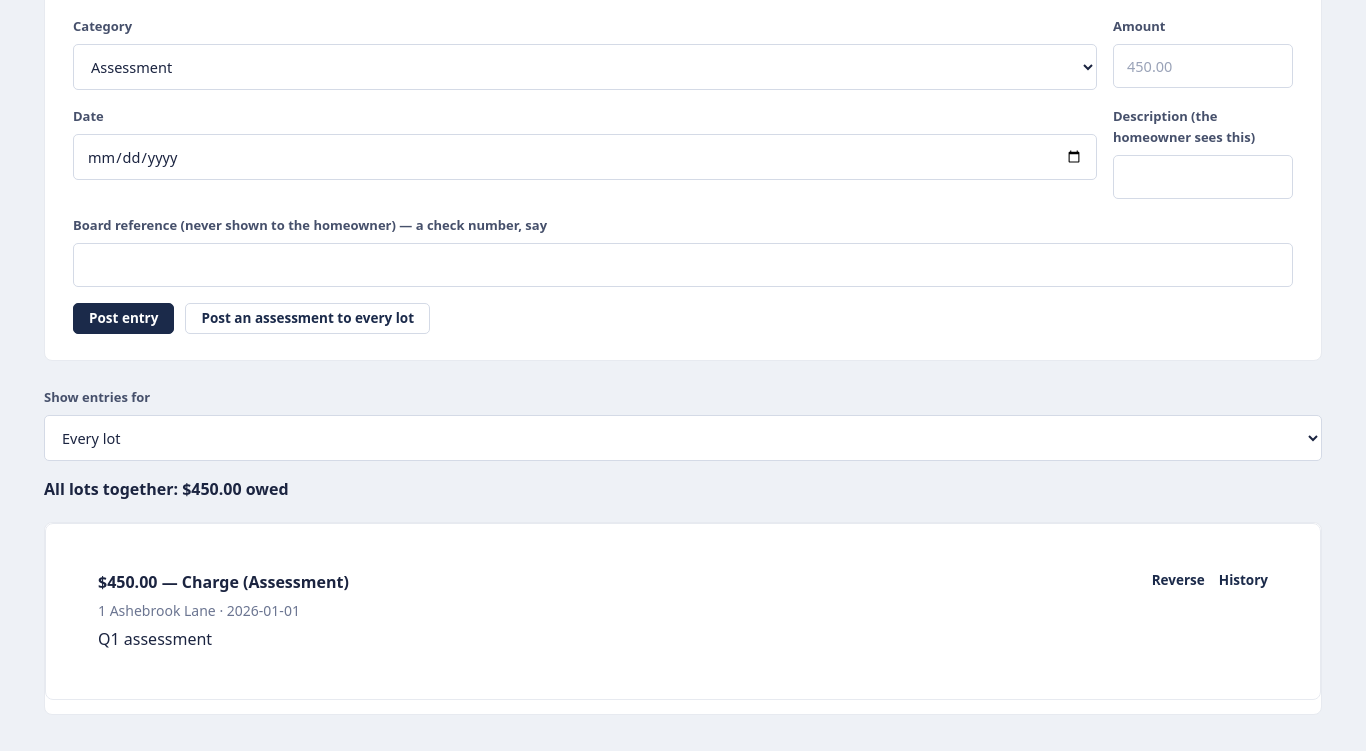
reversing an entry › requires a description the homeowner will read
The image size is (1366, 751).
(page scrolled)
Click the button with aria-label "Reverse entry:": x=1178, y=581 [1152,570,1205,592]
(page scrolled)
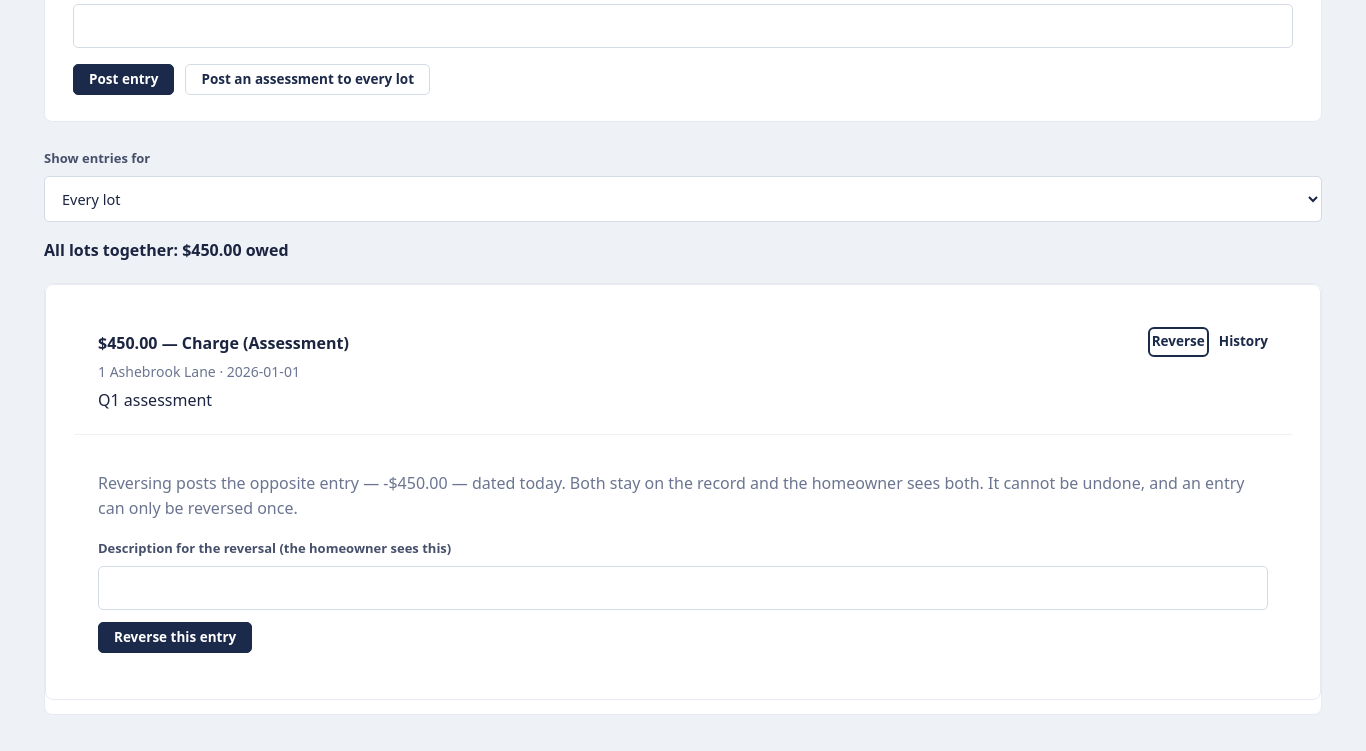
Click the button with aria-label "Confirm reversing entry:": x=175, y=637 [98,622,252,653]
(page scrolled)
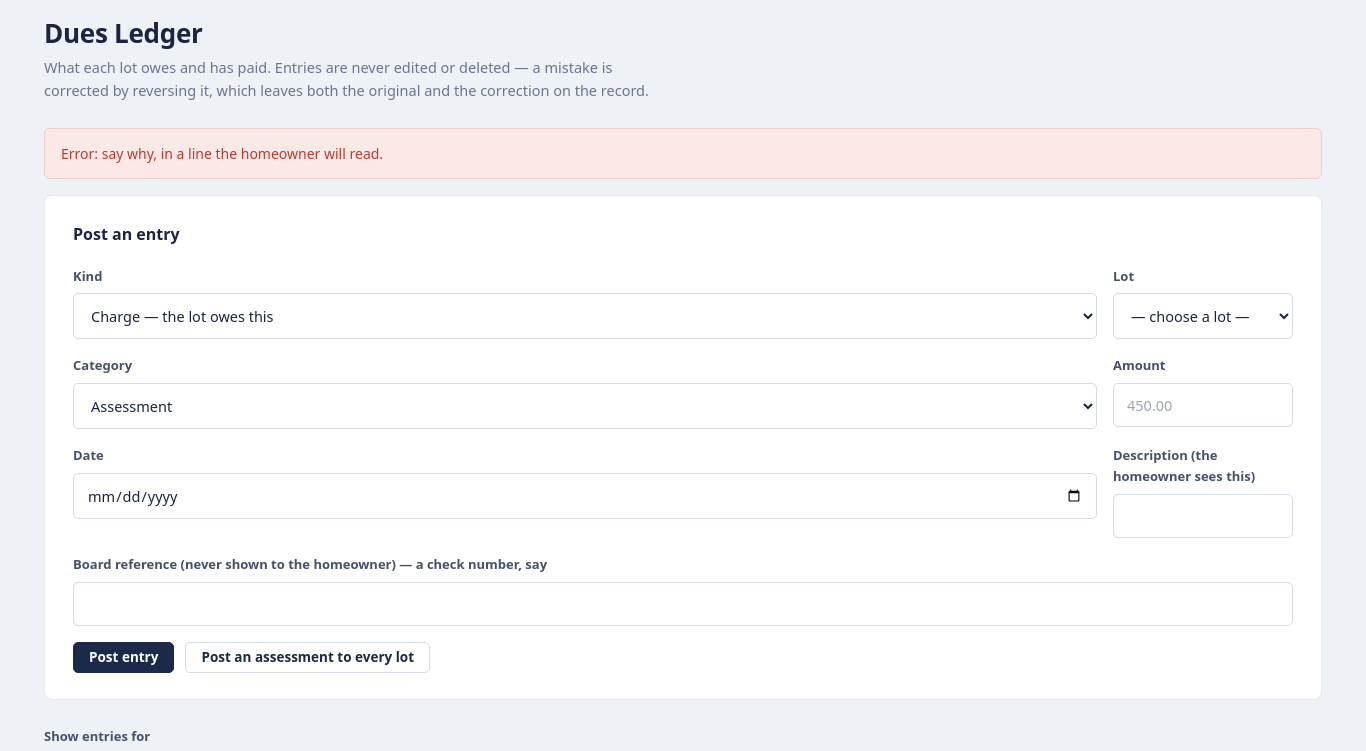
Expected: the text "Error: say why, in a line the homeowner will read." is shown, [44,128,1322,179]
